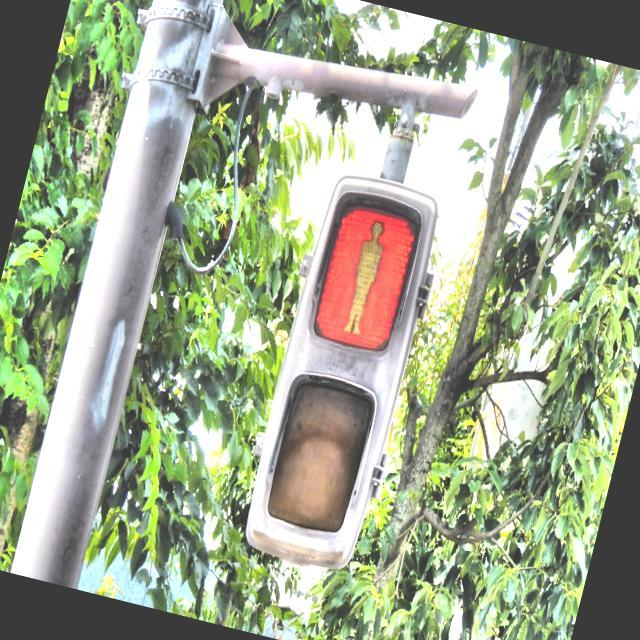red_light: (334, 213, 392, 344)
